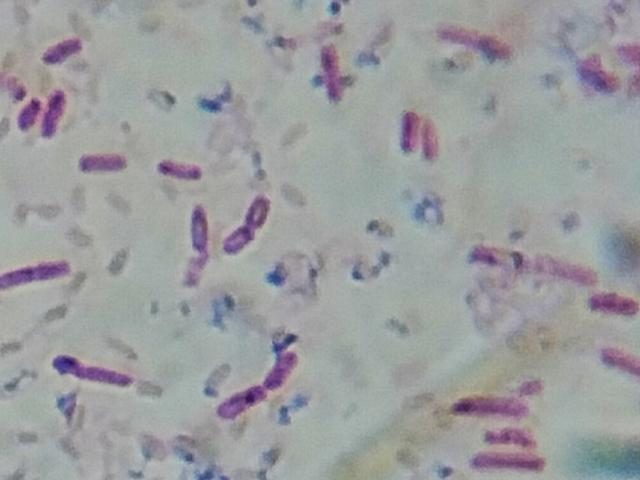E. coli: (47, 346, 136, 396), (449, 386, 539, 424), (0, 252, 72, 294), (220, 198, 274, 253), (216, 385, 270, 418), (586, 284, 638, 318), (183, 199, 215, 251), (479, 450, 545, 475), (77, 149, 130, 179), (269, 350, 306, 391), (319, 45, 344, 103), (603, 341, 640, 379), (42, 35, 81, 71), (40, 88, 65, 143), (156, 154, 200, 183), (394, 106, 421, 152), (482, 427, 534, 450), (15, 95, 37, 134)
